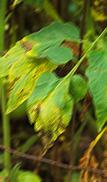Tomato Early blight leaf: (32, 72, 76, 153), (18, 28, 84, 62), (89, 35, 107, 131)
